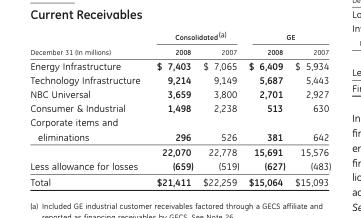table: (29, 29, 330, 187)
table column: (29, 29, 147, 187), (147, 29, 197, 187), (197, 29, 243, 187), (243, 29, 289, 187), (289, 29, 330, 187)
table column header: (29, 29, 330, 57)
table row: (29, 115, 330, 143), (29, 57, 330, 72), (29, 100, 330, 115), (29, 143, 330, 158), (29, 158, 330, 173), (29, 29, 330, 43), (29, 43, 330, 57), (29, 72, 330, 86), (29, 86, 330, 100), (29, 173, 330, 187)
table spanning cell: (29, 29, 147, 57), (147, 29, 243, 43), (243, 29, 330, 43)
